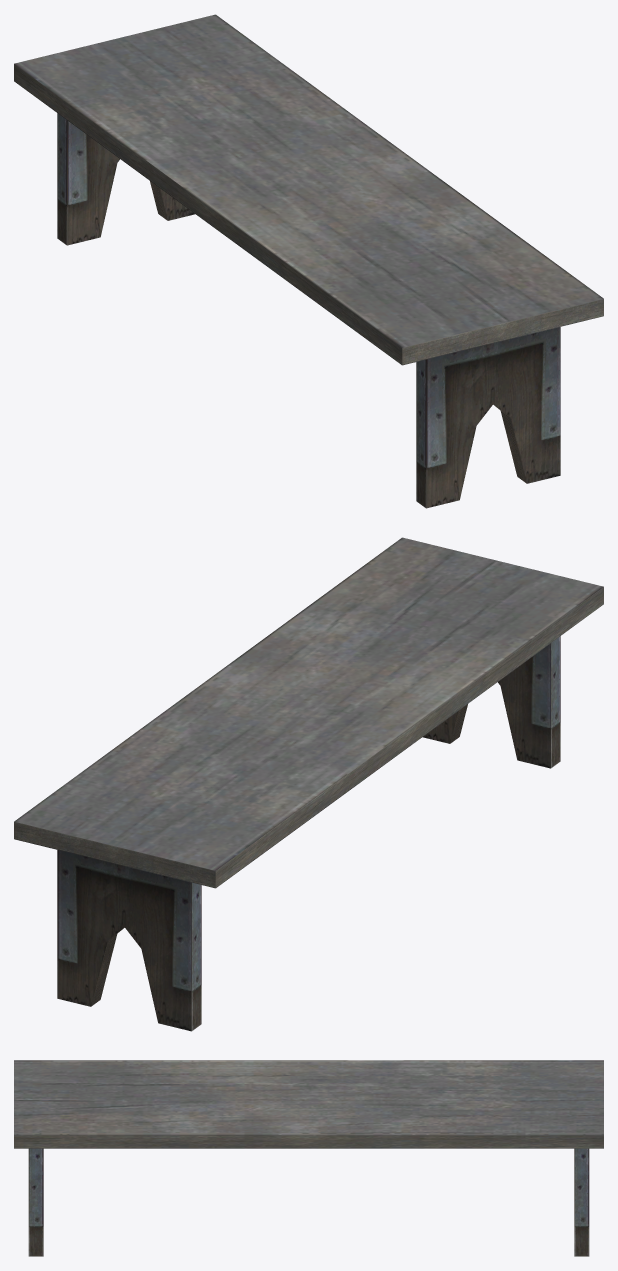
The model's file is bench.fbx.
3 views of the same model, one above another, from view 1: azimuth 30°, elevation 25°; view 2: azimuth 150°, elevation 25°; view 3: azimuth 270°, elevation 25° (orthographic). The views are drawn at different scales.
Visible parts, largest first — view 1: mesh_0; view 2: mesh_0; view 3: mesh_0.
Part boxes in pixels (x1,y1,x2,y2): mesh_0: (14, 14, 603, 508); mesh_0: (14, 537, 603, 1031); mesh_0: (14, 1060, 603, 1256).
Bounding box in the file's own units: 60 × 50 × 200.
1 material, 1 textured.
